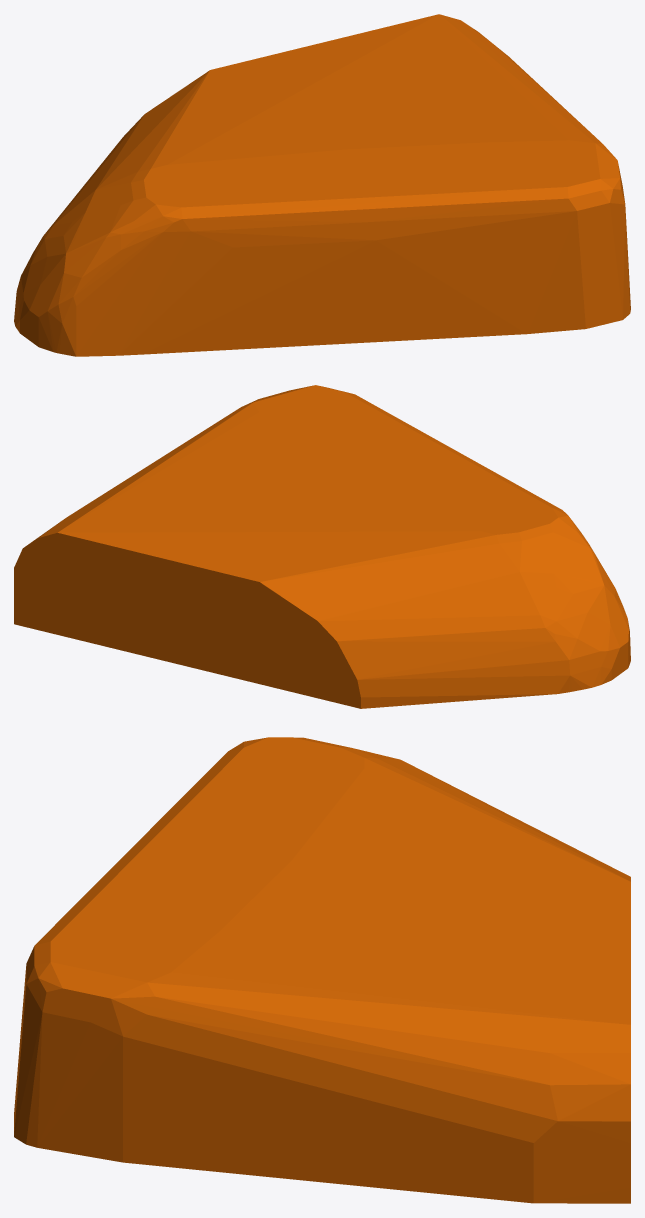
File: model0_convex_piece_019.obj
3 views of the same model, one above another, from view 1: azimuth 30°, elevation 25°; view 2: azimuth 150°, elevation 25°; view 3: azimuth 270°, elevation 25° (orthographic). The views are drawn at different scales.
Bounding box in the file's own units: 0.0243 × 0.00539 × 0.0178.
